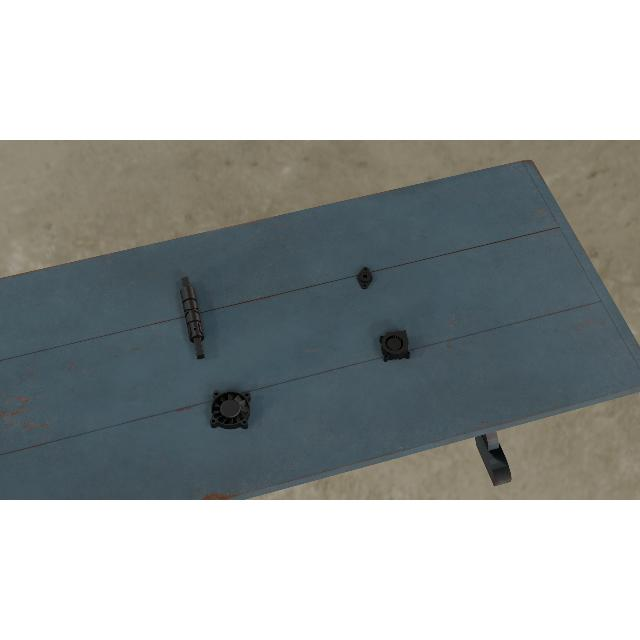Pieza1: (178, 274, 208, 362)
Pieza2: (356, 266, 374, 290)
Pieza3: (378, 331, 412, 364)
Pieza4: (209, 390, 251, 430)
